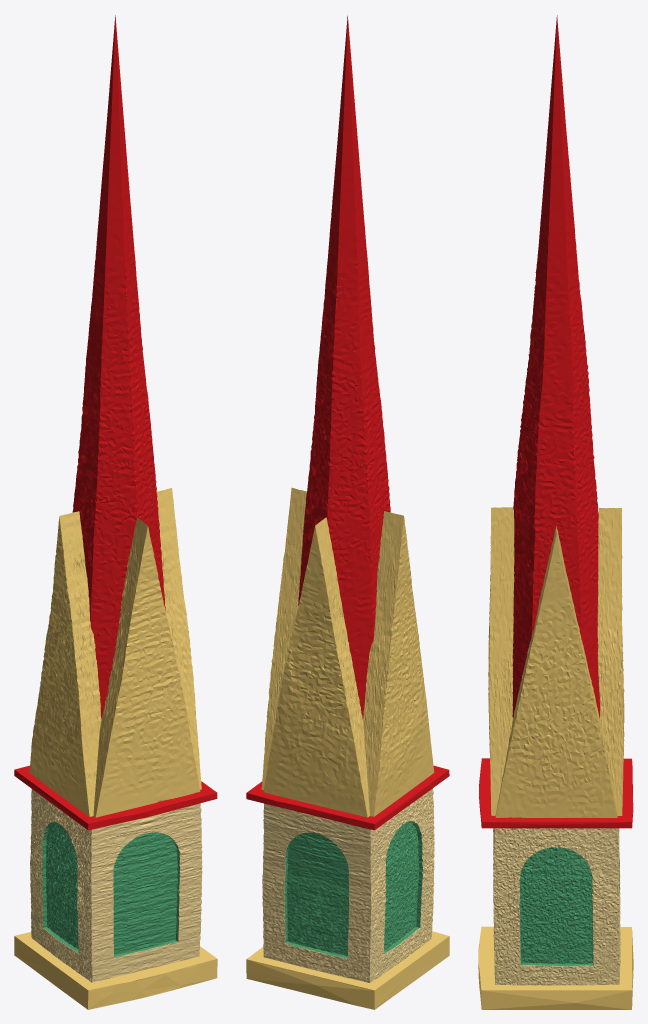
Rendered from Spire_Stock_01_LOD1.glb.
3 views of the same model, side by side, from view 1: azimuth 30°, elevation 25°; view 2: azimuth 150°, elevation 25°; view 3: azimuth 270°, elevation 25° (orthographic).
Visible parts, largest first — view 1: Box 1, Cone, Window bool 1, Box 2, Box; view 2: Box 1, Cone, Window bool 1, Box 2, Box; view 3: Box 1, Cone, Window bool 1, Box 2, Box.
Part boxes in pixels (left/top/right/bottom): Box 1: left=29, top=488, right=201, bottom=817; Cone: left=72, top=15, right=165, bottom=718; Window bool 1: left=30, top=789, right=202, bottom=982; Box 2: left=14, top=932, right=217, bottom=1009; Box: left=14, top=765, right=217, bottom=830; Box 1: left=261, top=487, right=434, bottom=817; Cone: left=298, top=15, right=390, bottom=718; Window bool 1: left=262, top=788, right=434, bottom=982; Box 2: left=246, top=931, right=449, bottom=1009; Box: left=246, top=765, right=449, bottom=830; Box 1: left=488, top=507, right=624, bottom=817; Cone: left=512, top=15, right=600, bottom=718; Window bool 1: left=493, top=828, right=620, bottom=985; Box 2: left=478, top=926, right=633, bottom=1009; Box: left=479, top=758, right=633, bottom=828.
Bounding box in the file's own units: 1.25 × 8.75 × 1.28.
